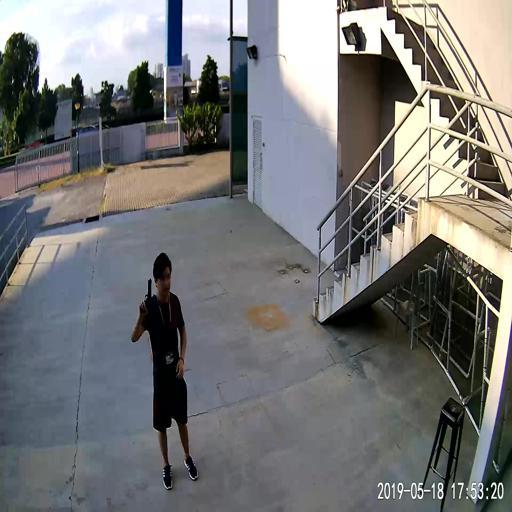Handgun: (138, 276, 151, 311)
